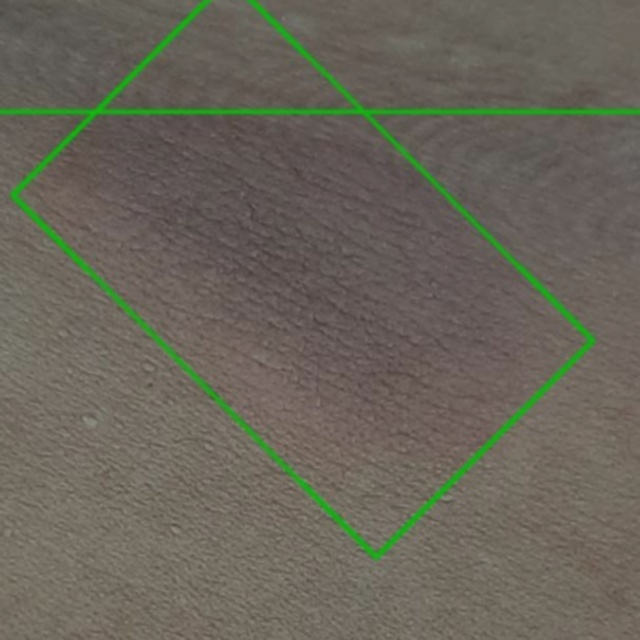Tinea Corporis: (12, 0, 592, 556), (0, 0, 639, 111)
